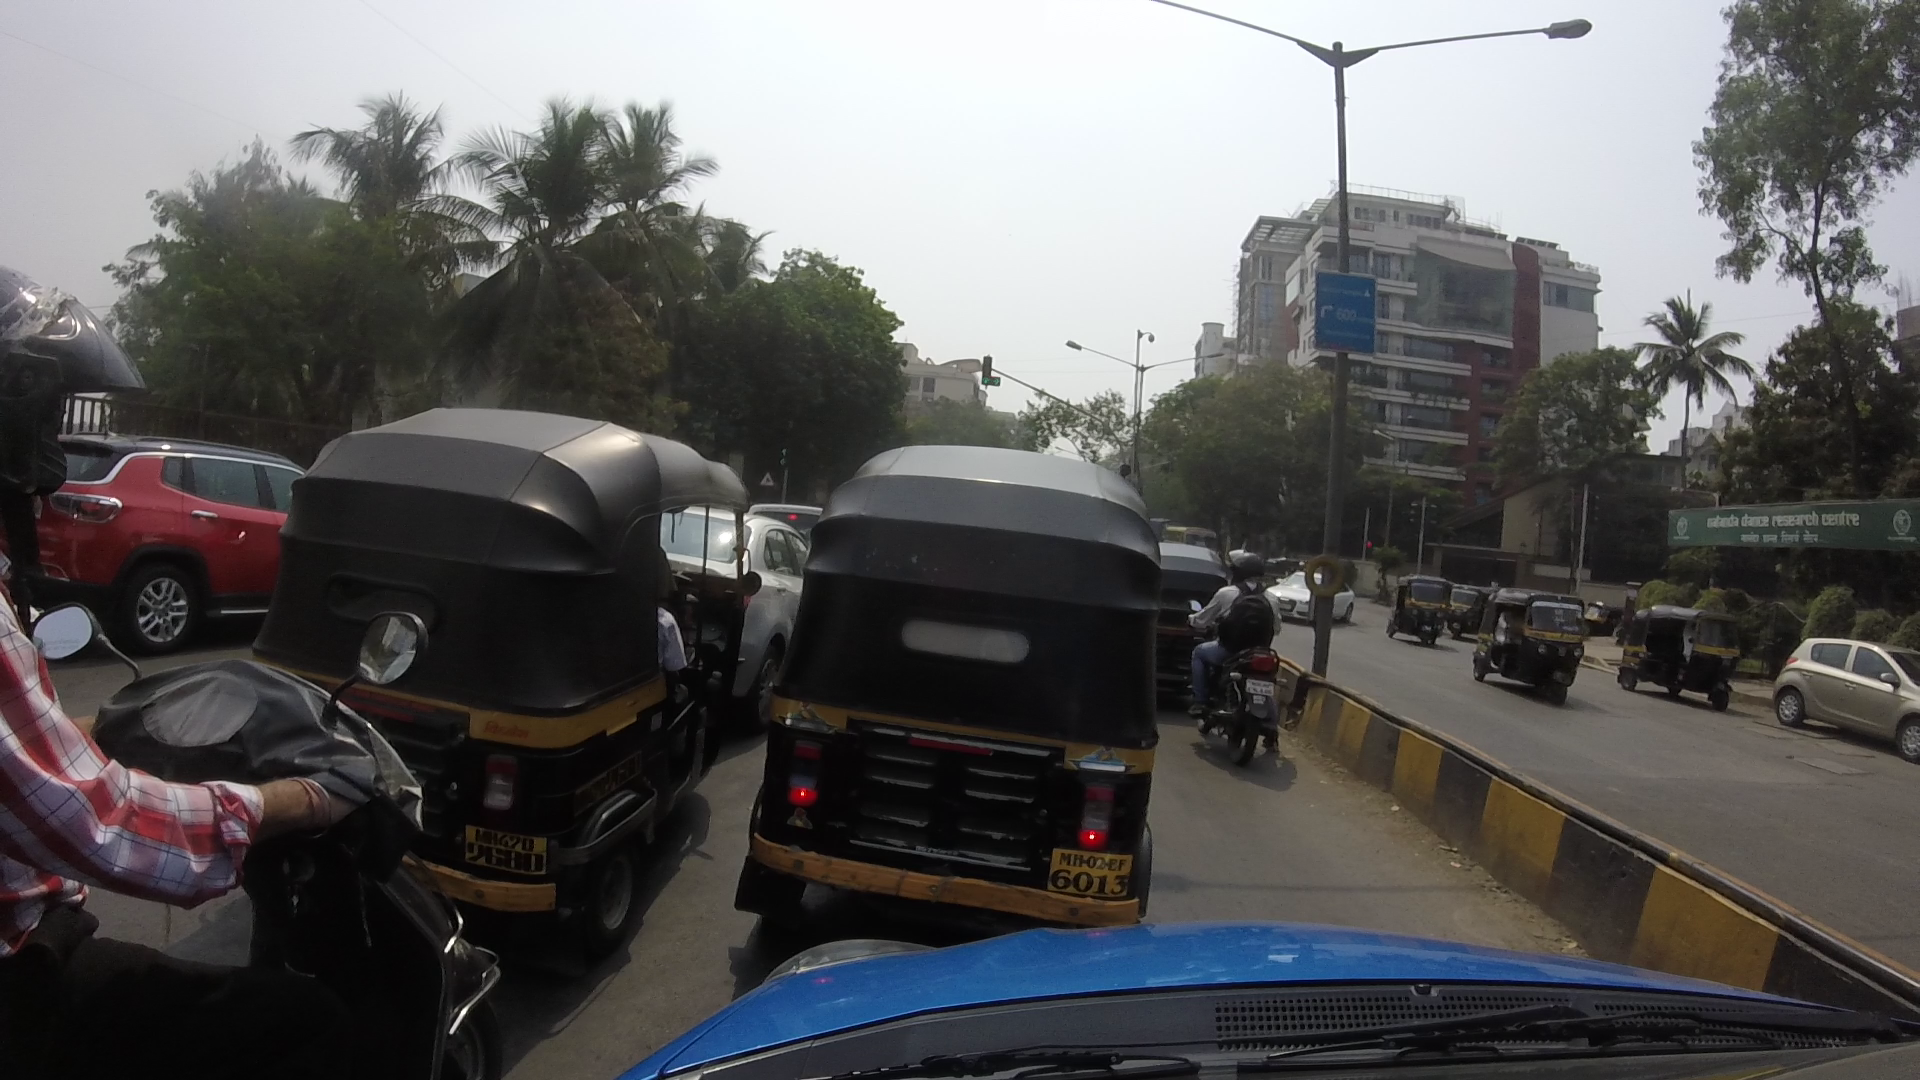bike/scooter: (11, 495, 497, 1080), (1174, 542, 1324, 769)
car: (42, 401, 320, 647), (1762, 616, 1920, 787)
rickshaw: (227, 381, 754, 942), (736, 401, 1189, 960), (1618, 551, 1760, 742), (1468, 575, 1596, 731)
